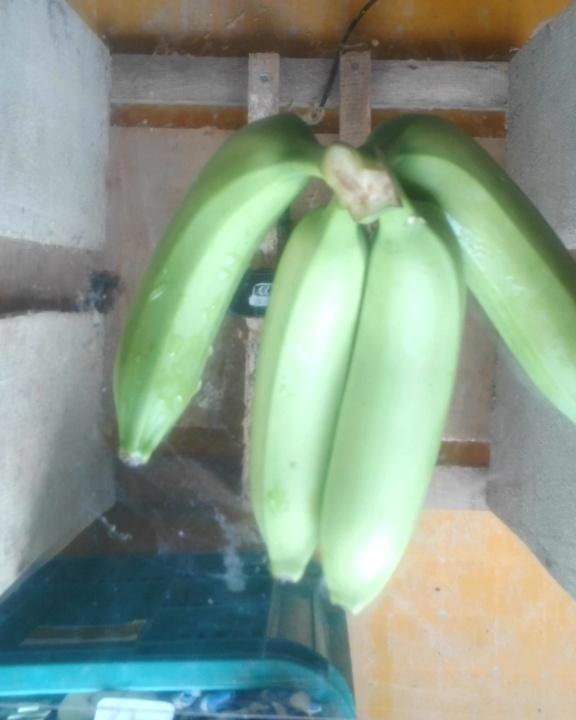SPOT: (84, 89, 576, 631)
